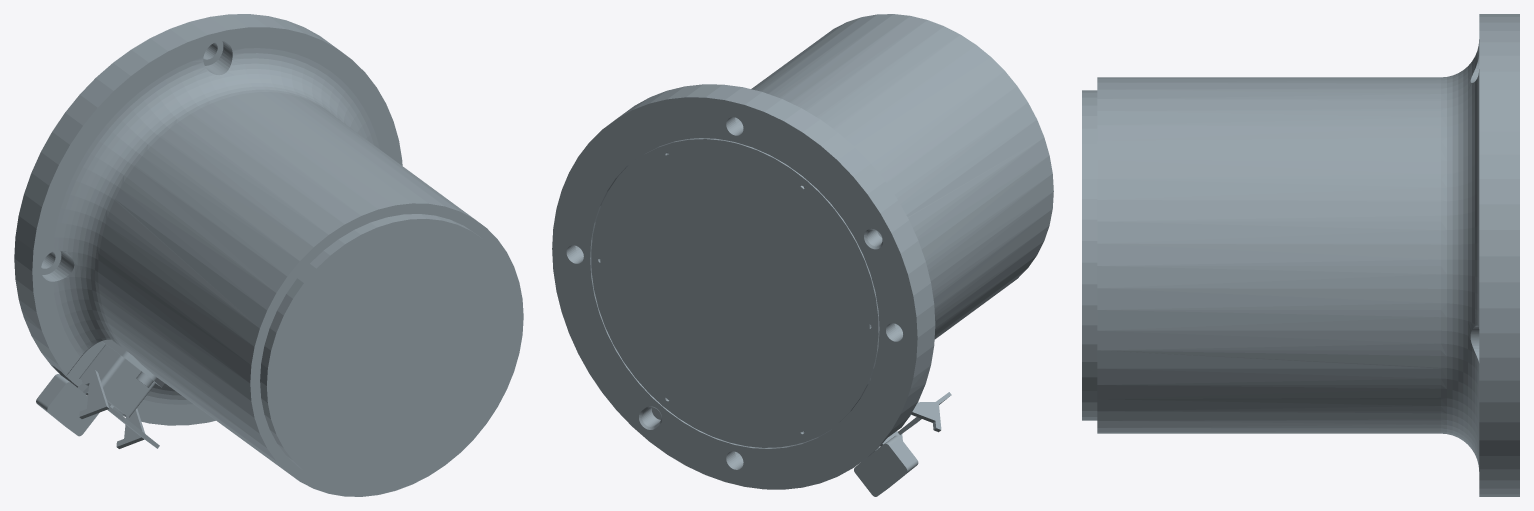
3 views of the same model, side by side, from view 1: azimuth 30°, elevation 25°; view 2: azimuth 150°, elevation 25°; view 3: azimuth 270°, elevation 25° (orthographic). The views are drawn at different scales.
Parts seen in each view (by area): view 1: base_link; view 2: base_link; view 3: base_link.
Part boxes in pixels (bbox=[...]): base_link: bbox=[14, 14, 523, 496]; base_link: bbox=[552, 14, 1053, 496]; base_link: bbox=[1082, 14, 1519, 496].
Bounding box in the file's own units: 0.19 × 0.1897 × 0.172.
